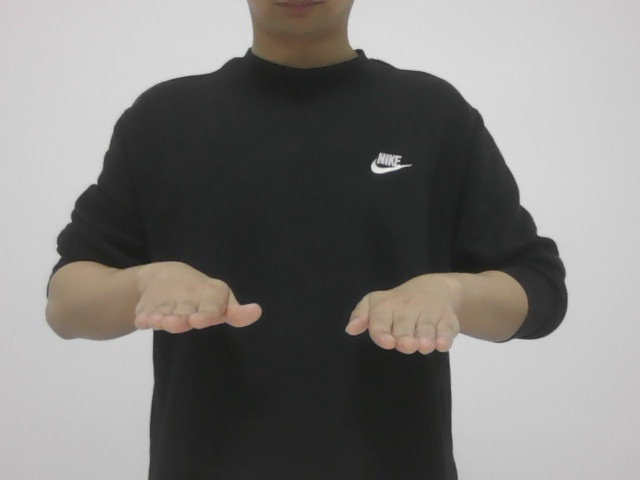flat: (121, 257, 465, 358)
